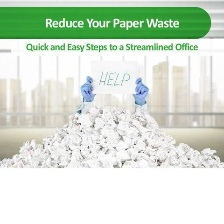book: (0, 100, 224, 169), (86, 58, 145, 95)
